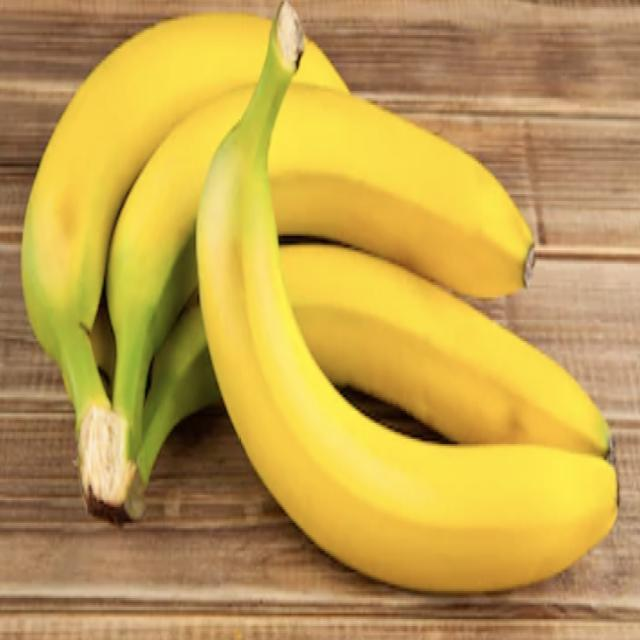Banana: (198, 34, 616, 594), (36, 22, 507, 505)
